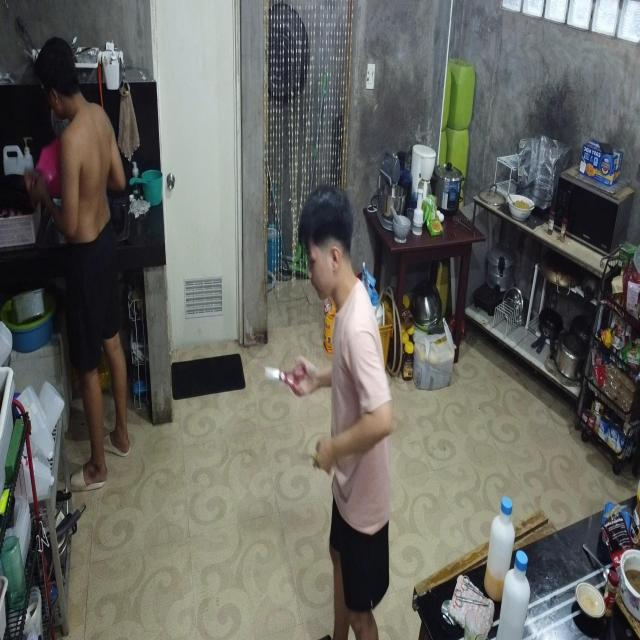scissor: (454, 588, 490, 611), (461, 575, 486, 600)
